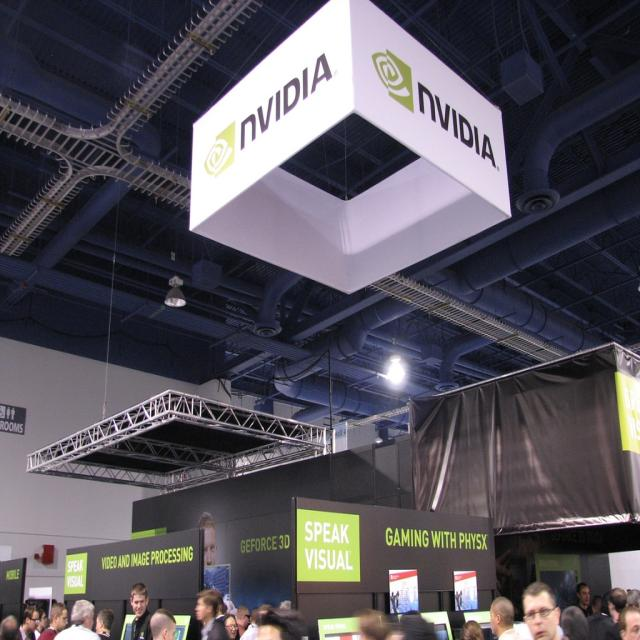nvidia: (370, 48, 415, 114), (204, 122, 238, 180)
